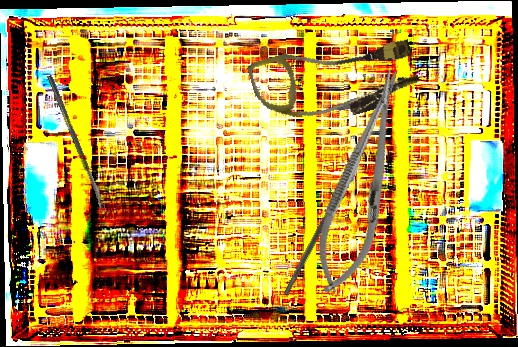Cannula: (246, 20, 424, 140)
Fixation Ring: (276, 186, 347, 300)
Needle Holder: (303, 63, 422, 301)
Surgical Spoon: (46, 74, 107, 214)
